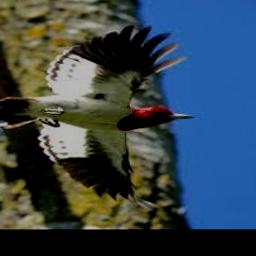Woodpecker: (0, 26, 194, 207)
